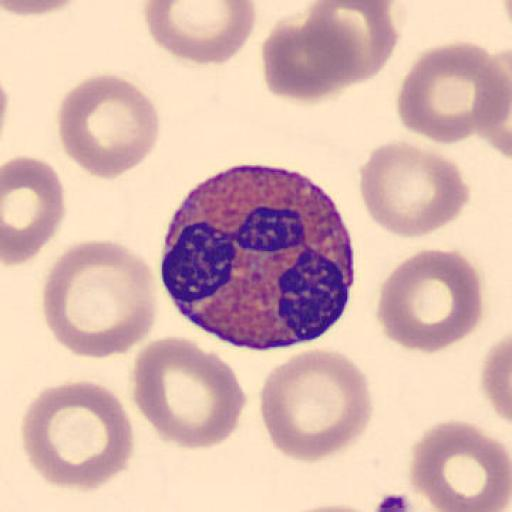RBC: (40, 239, 158, 362), (130, 334, 248, 450), (258, 347, 375, 463), (20, 379, 134, 493), (375, 246, 484, 355), (396, 40, 506, 146), (357, 138, 471, 240), (56, 72, 162, 180), (408, 416, 512, 512), (260, 12, 358, 104), (304, 0, 399, 86), (143, 0, 257, 66), (1, 154, 67, 266), (472, 43, 512, 162), (479, 330, 512, 426), (277, 498, 390, 512), (0, 0, 87, 18), (278, 502, 382, 512)
WBC: (161, 160, 358, 352)
